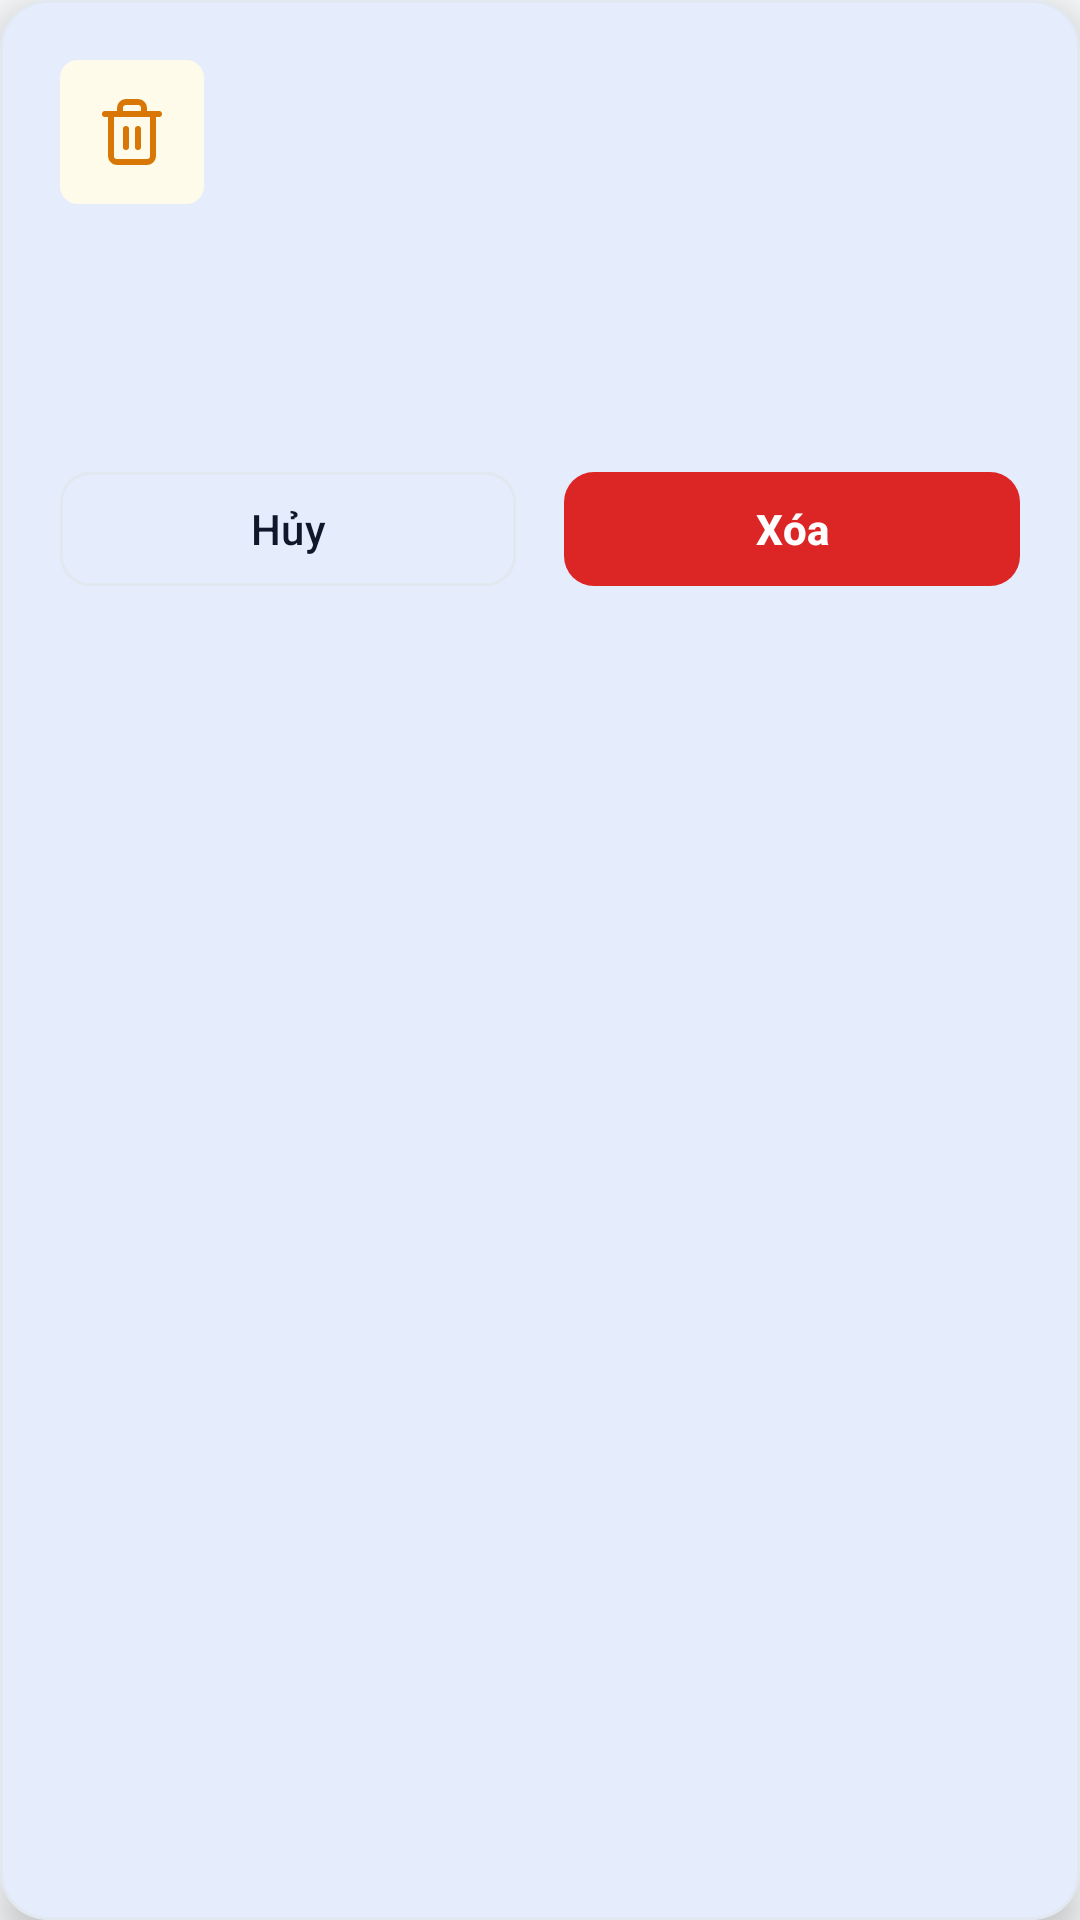

Where to tap for icons on this 1080px x 1920px app screen, as (x,y):
trash: (132,132)
